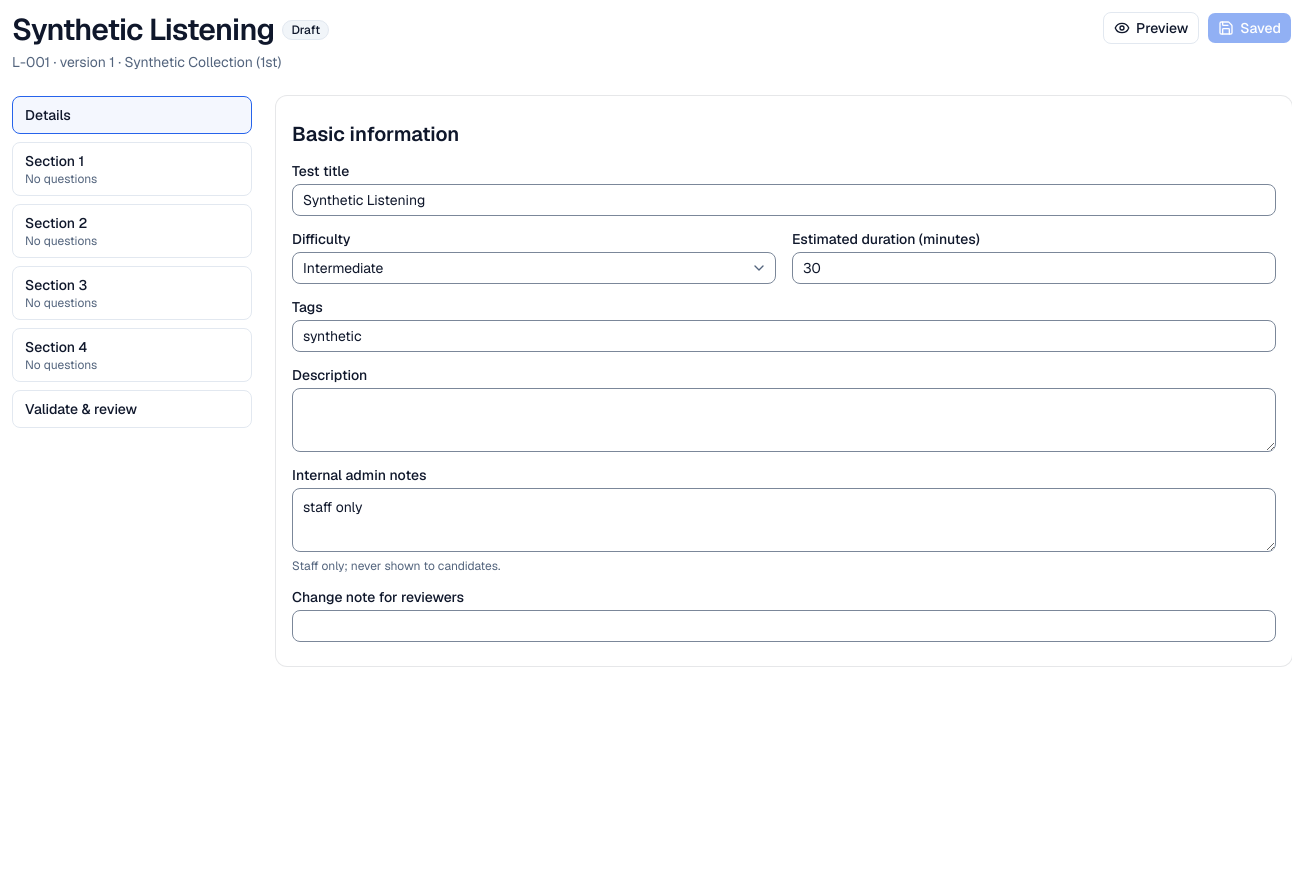
Test: ListeningEditor › shows incomplete questions next to the field when the request schema rejects a save
This screenshot has width=1304, height=887.
Click the button "Section 1 No questions".
click(132, 169)  # box [12, 142, 252, 196]
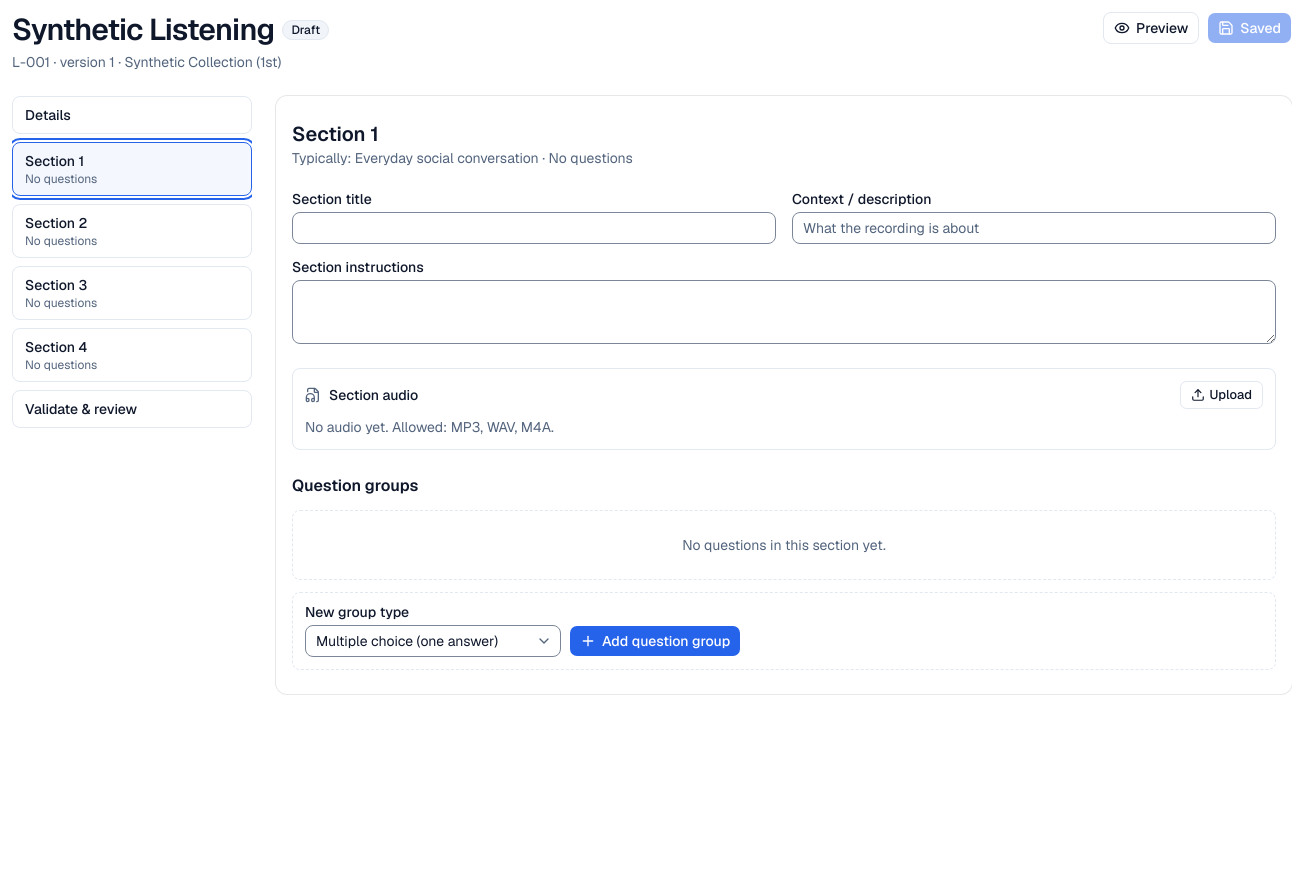
Click the button "Add question group".
click(655, 641)  # box [569, 625, 741, 657]
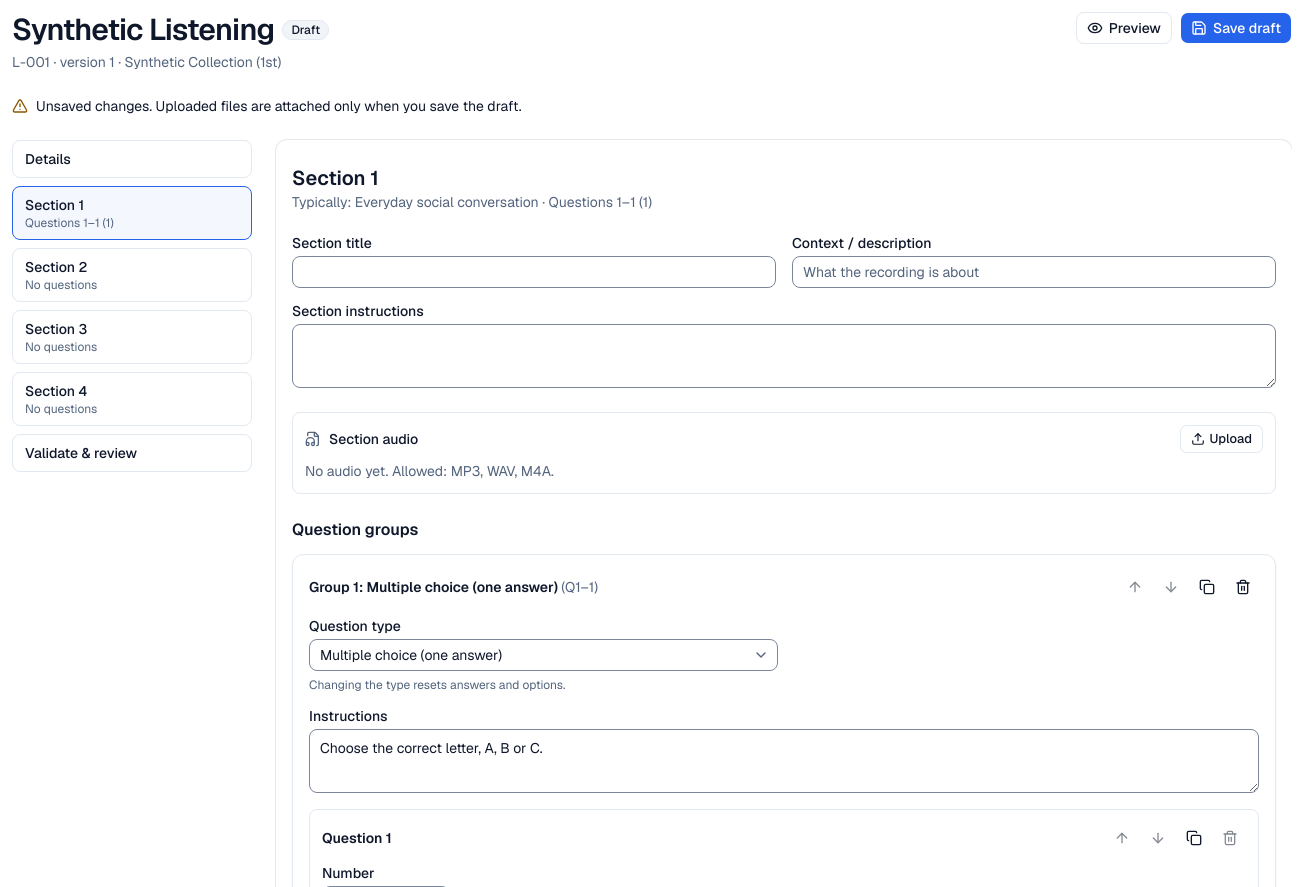
Click the button "Save draft".
click(1236, 28)  # box [1180, 12, 1292, 44]
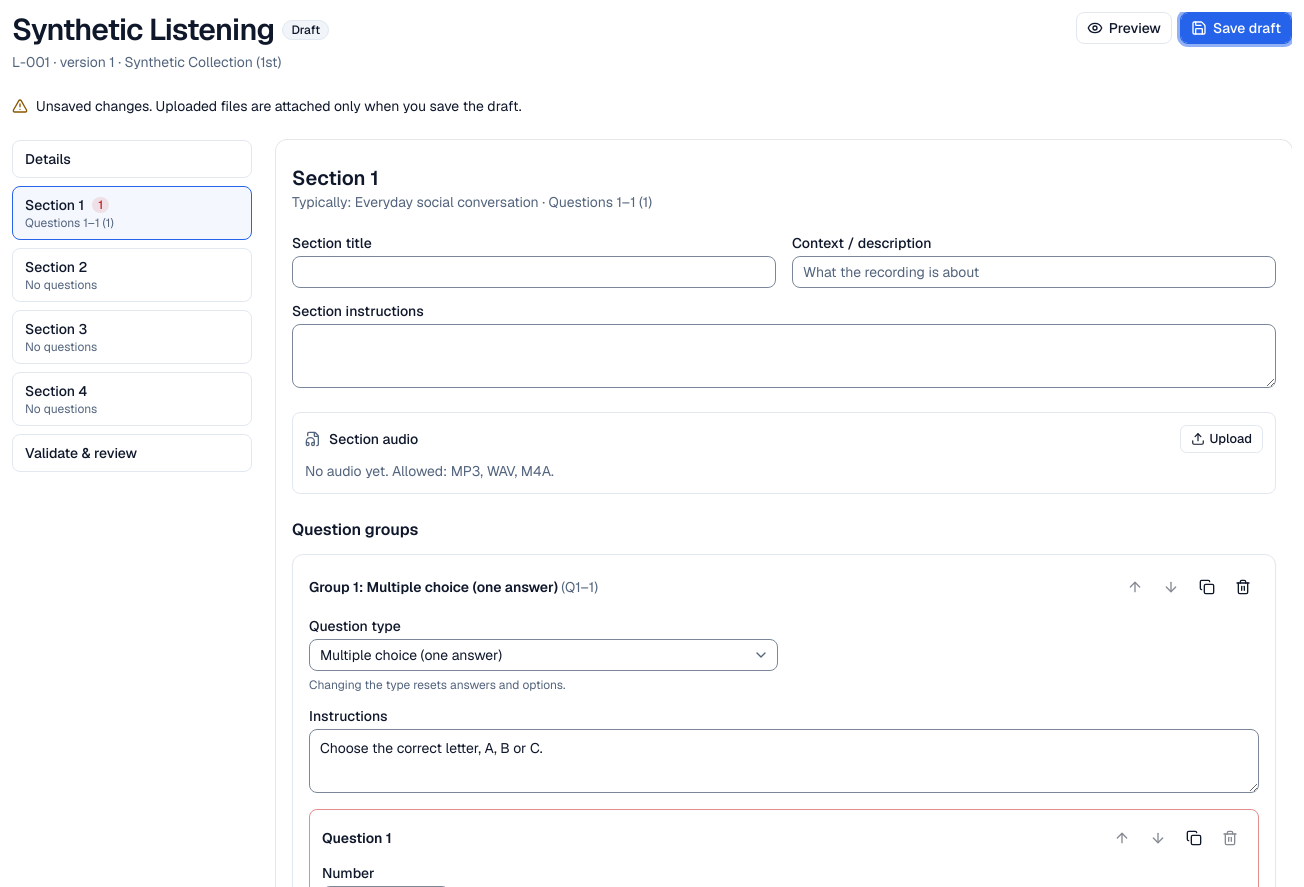
Check: the button "Save draft" is enabled, box [1180, 12, 1292, 44]
Check: the button with aria-label "Section 1, 1 error, Questions 1–1 (1)" is shown, box [12, 186, 252, 240]
